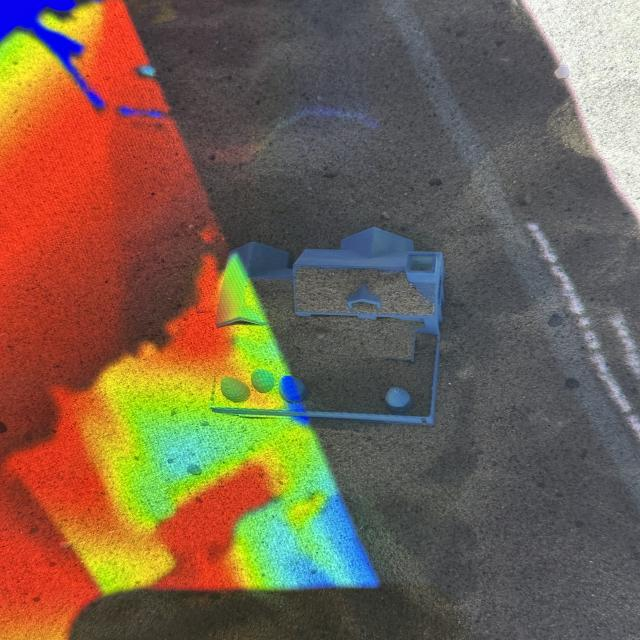house: (214, 226, 446, 427)
